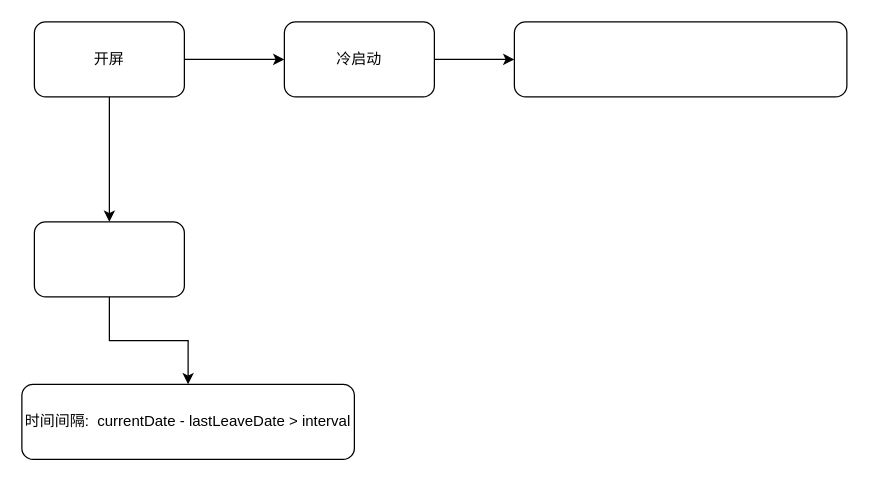
This 869x481 diagram has some shape labels left out. Each missing label, with the centre of its shape:
"时间间隔: currentDate - lastShowDate > interval" goes at point 680,59.
"热启动" goes at point 108,259.
